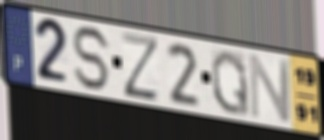2: (30, 16, 74, 88), (164, 41, 203, 108)
N: (247, 52, 293, 124)
Q: (209, 47, 252, 119)
S: (71, 24, 113, 93)
Z: (119, 30, 161, 104)
